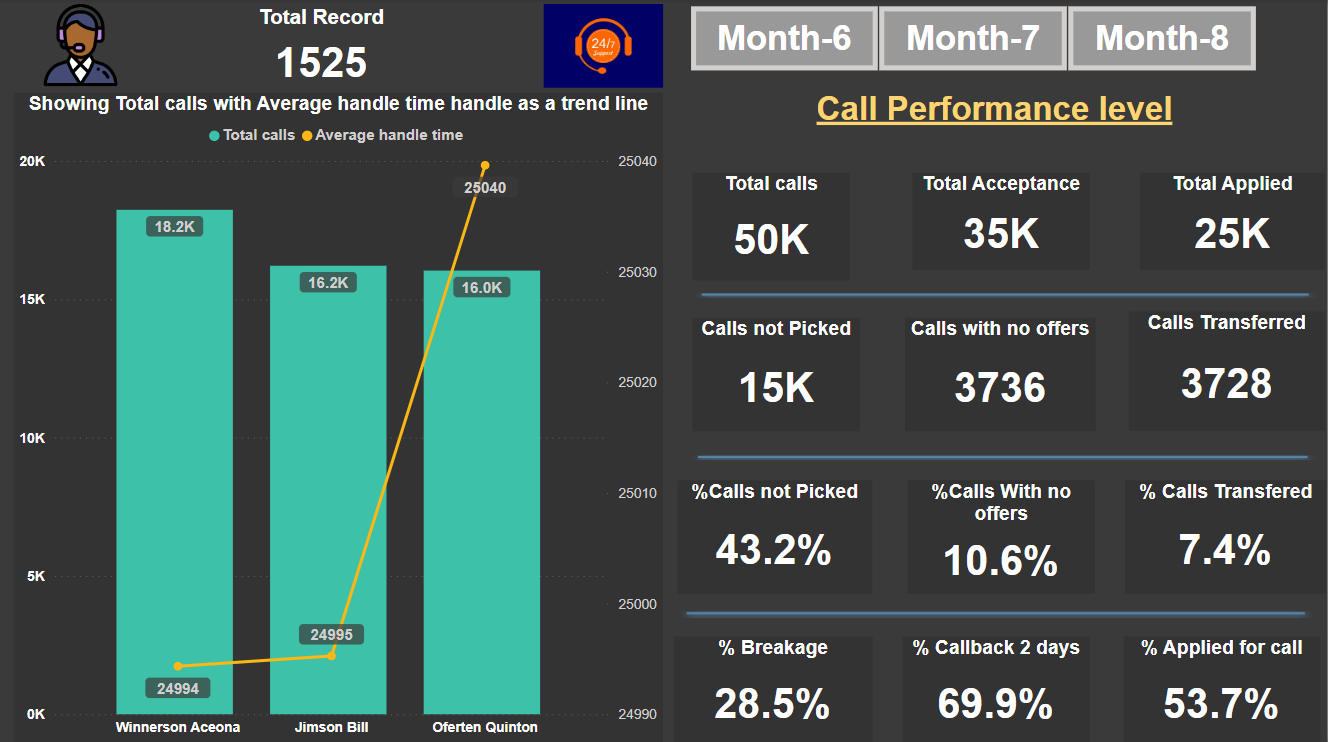

What the dashboard file says about the page in this screenshot:
{"tool":"powerbi","page":{"name":"matrics","canvas":[1280,720],"ordinal":2},"visuals":[{"type":"lineStackedColumnComboChart","title":"Showing Total calls with Average handle time handle as a trend line ","fields":{"Category":["Team Leaders.TEAM_LEAD_NAME"],"Y":["All Measures.Total calls"],"Y2":["All Measures.Average handle time"]},"box":[13.7,90.5,626.6,629.3],"z":0},{"type":"slicer","fields":{"Values":["FactTable.Month Name"]},"box":[640.3,0,595,72.7],"z":1000},{"type":"card","title":"Total calls","fields":{"Values":["All Measures.Total calls"]},"box":[667.7,167.3,152.2,104.2],"z":2000},{"type":"card","title":"Calls not Picked","fields":{"Values":["All Measures.call not picked"]},"box":[667.7,307.1,161.8,109.7],"z":3000},{"type":"card","title":"Total Acceptance","fields":{"Values":["All Measures.Total Acceptance"]},"box":[880.2,167.3,171.4,93.2],"z":4000},{"type":"card","title":"Total Applied","fields":{"Values":["All Measures.Total Applied"]},"box":[1099.6,167.3,178.2,93.2],"z":5000},{"type":"card","title":"Calls Transferred","fields":{"Values":["All Measures.total Transfer"]},"box":[1088.6,301.6,189.2,115.2],"z":6000},{"type":"card","title":"%Calls not Picked","fields":{"Values":["All Measures.% calls not picked"]},"box":[654,464.8,187.8,109.7],"z":7000},{"type":"card","title":"%Calls With no offers","fields":{"Values":["All Measures.% calls with no offer"]},"box":[876.1,464.8,181,109.7],"z":8000},{"type":"card","title":"%  Calls Transfered","fields":{"Values":["All Measures.% calls Transfered"]},"box":[1085.9,464.8,194.7,109.7],"z":9000},{"type":"card","title":"% Breakage","fields":{"Values":["All Measures.% breakage"]},"box":[649.9,615.6,191.9,104.2],"z":10000},{"type":"card","title":"%  Callback 2 days","fields":{"Values":["All Measures.% call with an accept"]},"box":[870.6,615.6,181,104.2],"z":11000},{"type":"card","title":"% Applied for call","fields":{"Values":["All Measures.% applied per call"]},"box":[1084.5,615.6,189.2,104.2],"z":12000},{"type":"card","title":"Calls with no offers","fields":{"Values":["All Measures.call with no offer"]},"box":[873.4,307.1,183.7,109.7],"z":13000},{"type":"image","box":[30.2,0,94.6,89.1],"z":14000},{"type":"card","title":"Total Record","fields":{"Values":["All Measures.Total records"]},"box":[208.4,5.5,202.9,83.6],"z":15000},{"type":"image","box":[515.5,0,134.4,90.5],"z":16000},{"type":"textbox","box":[667.7,83.6,582.7,63.1],"z":17000},{"type":"shape","box":[667.7,275.6,603.3,12.3],"z":18000},{"type":"shape","box":[665,433.3,606,12.3],"z":19000},{"type":"shape","box":[654,584.1,614.2,13.7],"z":20000}]}

Visuals, with their boxes in screenshot pixels (x1, y1, x2, y2), scaled from the page's 1280x720 canvas onto the 1328x742 screenshot:
"Showing Total calls with Average handle time handle as a trend line " lineStackedColumnComboChart: [x1=14, y1=93, x2=664, y2=741]
slicer - FactTable.Month Name: [x1=664, y1=0, x2=1282, y2=75]
"Total calls" card: [x1=693, y1=172, x2=851, y2=280]
"Calls not Picked" card: [x1=693, y1=316, x2=861, y2=430]
"Total Acceptance" card: [x1=913, y1=172, x2=1091, y2=268]
"Total Applied" card: [x1=1141, y1=172, x2=1326, y2=268]
"Calls Transferred" card: [x1=1129, y1=311, x2=1326, y2=430]
"%Calls not Picked" card: [x1=679, y1=479, x2=873, y2=592]
"%Calls With no offers" card: [x1=909, y1=479, x2=1097, y2=592]
"%  Calls Transfered" card: [x1=1127, y1=479, x2=1327, y2=592]
"% Breakage" card: [x1=674, y1=634, x2=873, y2=741]
"%  Callback 2 days" card: [x1=903, y1=634, x2=1091, y2=741]
"% Applied for call" card: [x1=1125, y1=634, x2=1321, y2=741]
"Calls with no offers" card: [x1=906, y1=316, x2=1097, y2=430]
image: [x1=31, y1=0, x2=129, y2=92]
"Total Record" card: [x1=216, y1=6, x2=427, y2=92]
image: [x1=535, y1=0, x2=674, y2=93]
textbox: [x1=693, y1=86, x2=1297, y2=151]
shape: [x1=693, y1=284, x2=1319, y2=297]
shape: [x1=690, y1=447, x2=1319, y2=459]
shape: [x1=679, y1=602, x2=1316, y2=616]
